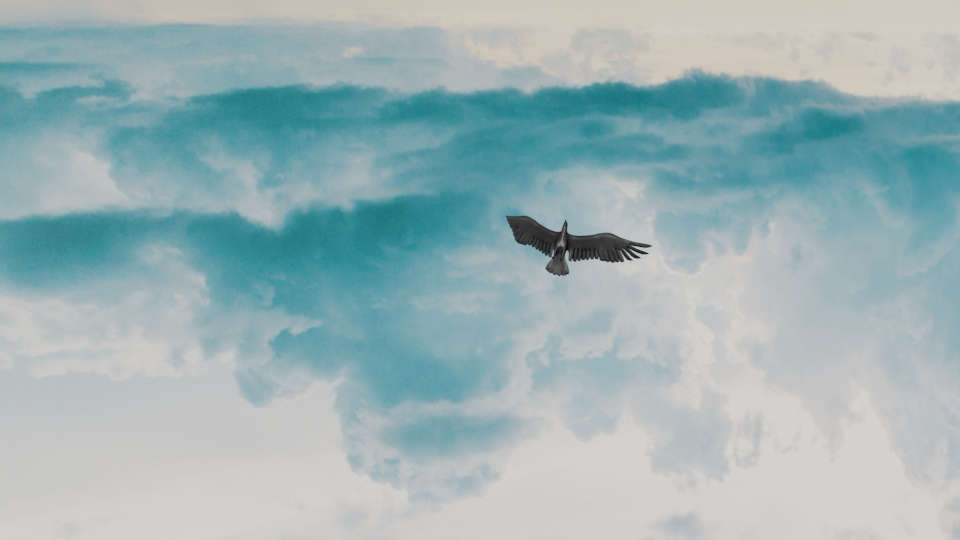bird: (498, 214, 650, 277)
